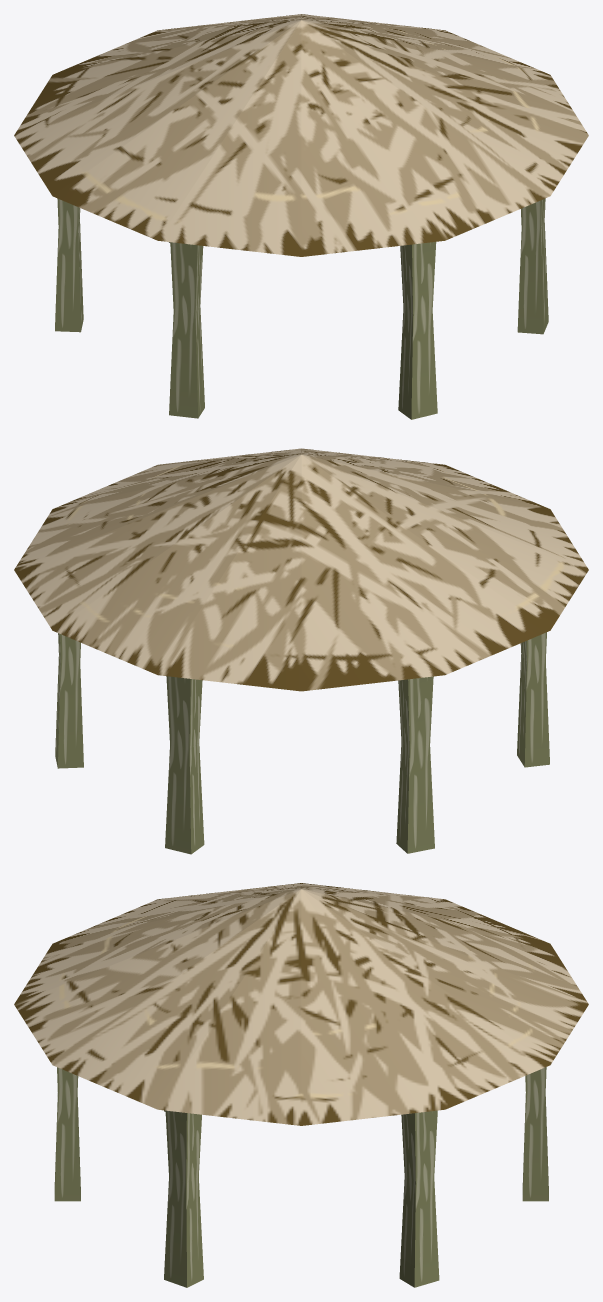
The model's file is casaPalha02.FBX.
3 views of the same model, one above another, from view 1: azimuth 30°, elevation 25°; view 2: azimuth 150°, elevation 25°; view 3: azimuth 270°, elevation 25° (orthographic).
Parts seen in each view (by area): view 1: barracaPalha002, casaPalhaBase005, casaPalhaBase01, casaPalhaBase004, casaPalhaBase002; view 2: barracaPalha002, casaPalhaBase006, casaPalhaBase002, casaPalhaBase01, casaPalhaBase003; view 3: barracaPalha002, casaPalhaBase004, casaPalhaBase003, casaPalhaBase006, casaPalhaBase005.
Part boxes in pixels (<box>): barracaPalha002: <box>14,14,588,256</box>; casaPalhaBase005: <box>398,242,437,419</box>; casaPalhaBase01: <box>169,242,204,418</box>; casaPalhaBase004: <box>517,198,548,334</box>; casaPalhaBase002: <box>55,198,83,332</box>; barracaPalha002: <box>14,448,588,691</box>; casaPalhaBase006: <box>165,676,204,854</box>; casaPalhaBase002: <box>396,676,434,853</box>; casaPalhaBase01: <box>517,632,549,767</box>; casaPalhaBase003: <box>55,633,83,768</box>; barracaPalha002: <box>14,883,588,1125</box>; casaPalhaBase004: <box>164,1110,203,1287</box>; casaPalhaBase003: <box>399,1110,439,1287</box>; casaPalhaBase006: <box>522,1067,548,1201</box>; casaPalhaBase005: <box>54,1067,80,1201</box>.
Size of the model in its own units: 318 by 187 by 318.
